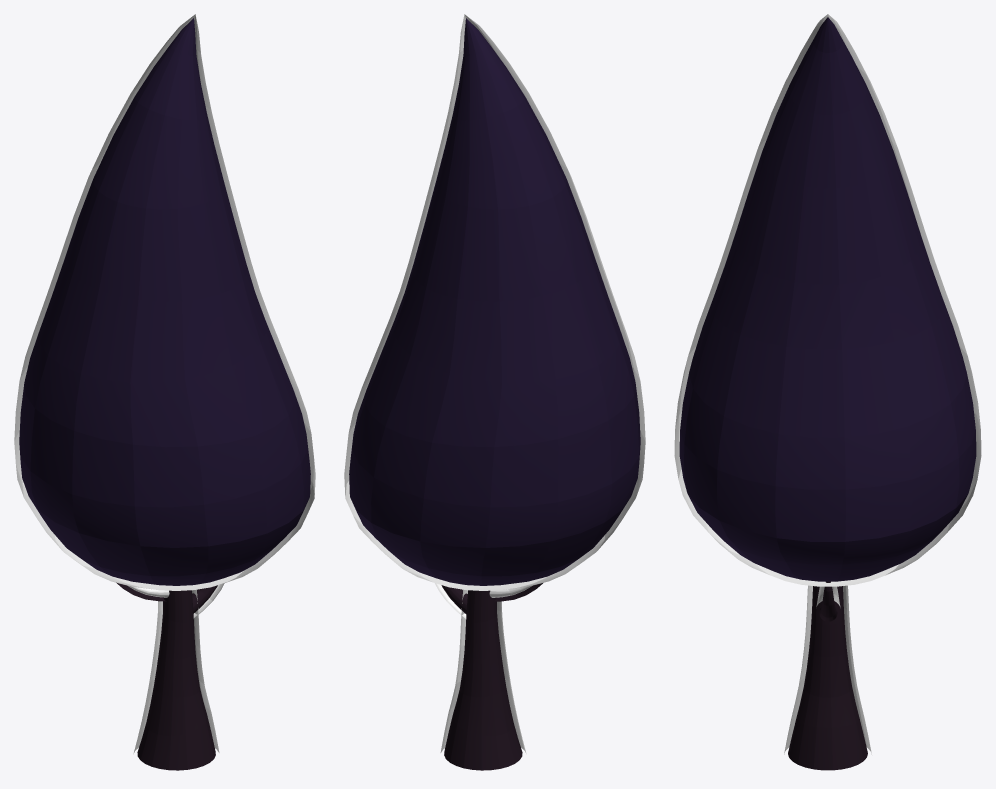
File: stolasTree3.glb
3 views of the same model, side by side, from view 1: azimuth 30°, elevation 25°; view 2: azimuth 150°, elevation 25°; view 3: azimuth 270°, elevation 25° (orthographic).
Parts seen in each view (by area): view 1: stolasTree3_LOD0; view 2: stolasTree3_LOD0; view 3: stolasTree3_LOD0.
Boxes of the visible parts, <box> form: stolasTree3_LOD0: <box>14,14,315,770</box>; stolasTree3_LOD0: <box>344,14,645,770</box>; stolasTree3_LOD0: <box>674,14,981,770</box>.
Size of what is drawn, in the model's own units: 6.2 by 16.82 by 6.22.
Materials: 2 (1 with a texture image).
